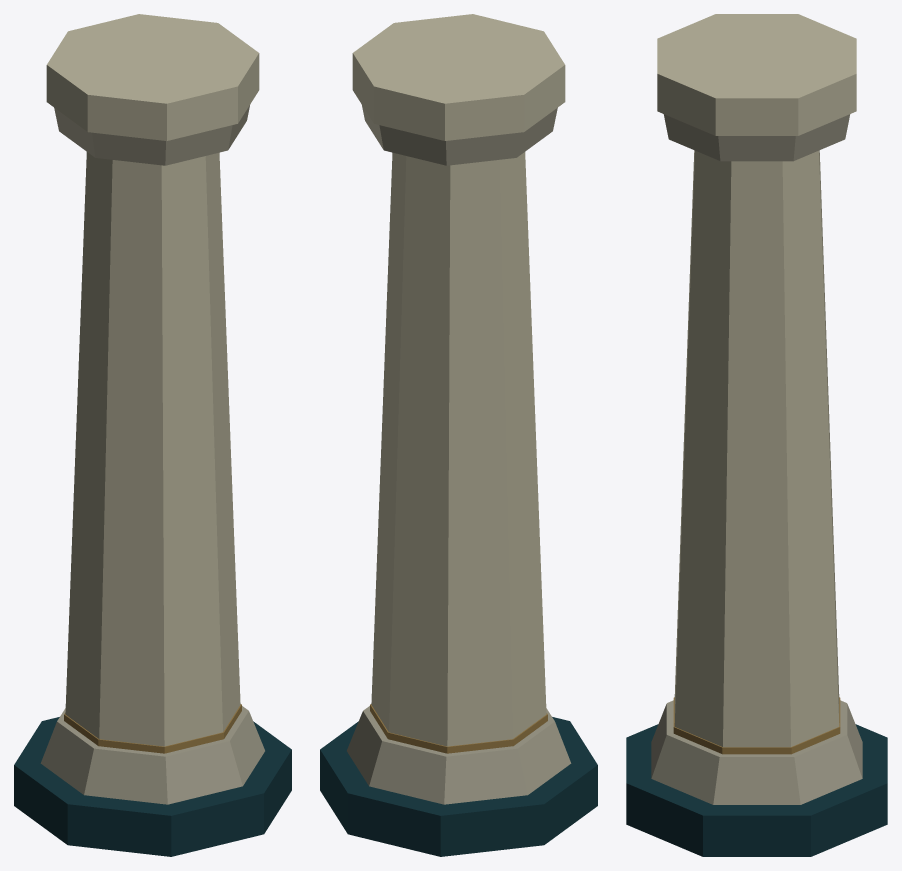
The model's file is WP_A14_pillar_4m_v02.glb.
3 views of the same model, side by side, from view 1: azimuth 30°, elevation 25°; view 2: azimuth 150°, elevation 25°; view 3: azimuth 270°, elevation 25° (orthographic).
Visible parts, largest first — view 1: Pillar; view 2: Pillar; view 3: Pillar.
Part boxes in pixels (left/top/right/bottom): Pillar: left=14, top=14, right=291, bottom=856; Pillar: left=320, top=14, right=597, bottom=856; Pillar: left=626, top=14, right=887, bottom=856.
Size of the model in its own units: 1.26 by 3.96 by 1.26.
